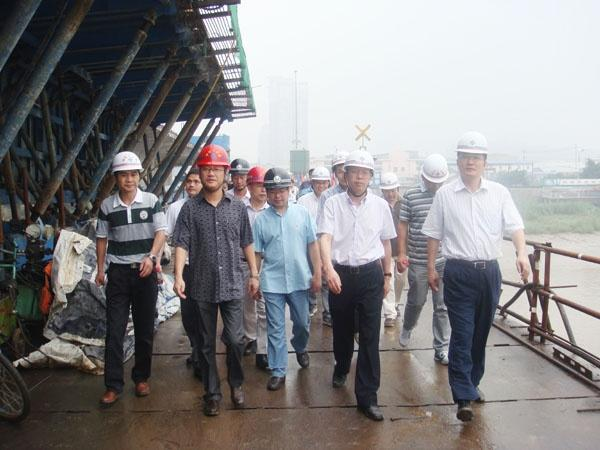Helmet: (197, 145, 231, 191), (111, 152, 145, 195)
NoVest: (322, 190, 394, 272), (438, 180, 503, 263)
